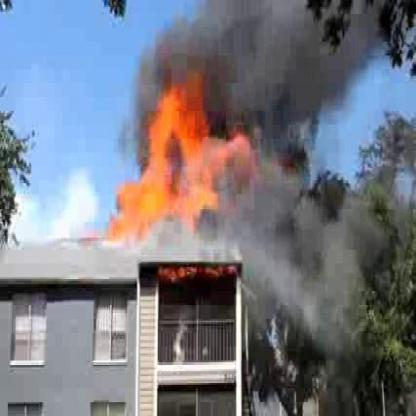fire: (107, 84, 246, 266)
smoke: (210, 11, 356, 114), (257, 184, 354, 324)
